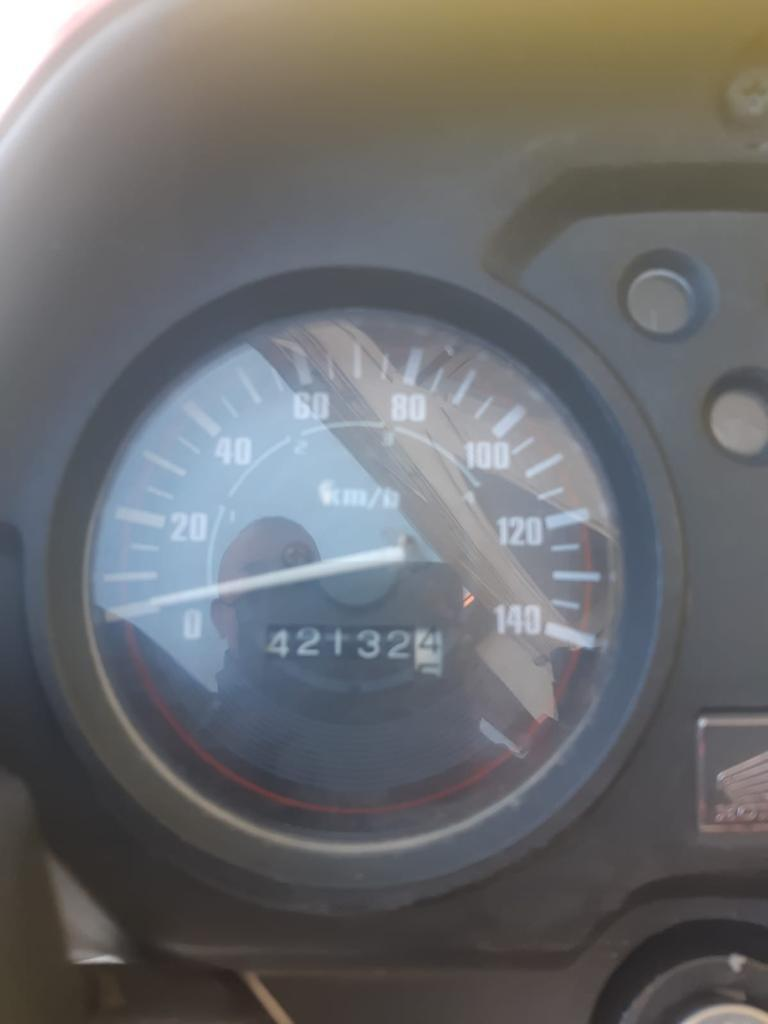1: (331, 625, 344, 657)
2: (295, 626, 321, 658), (385, 629, 411, 660)
3: (356, 628, 382, 660)
4: (265, 628, 291, 659), (418, 627, 441, 653)
odometer: (262, 620, 446, 679)
